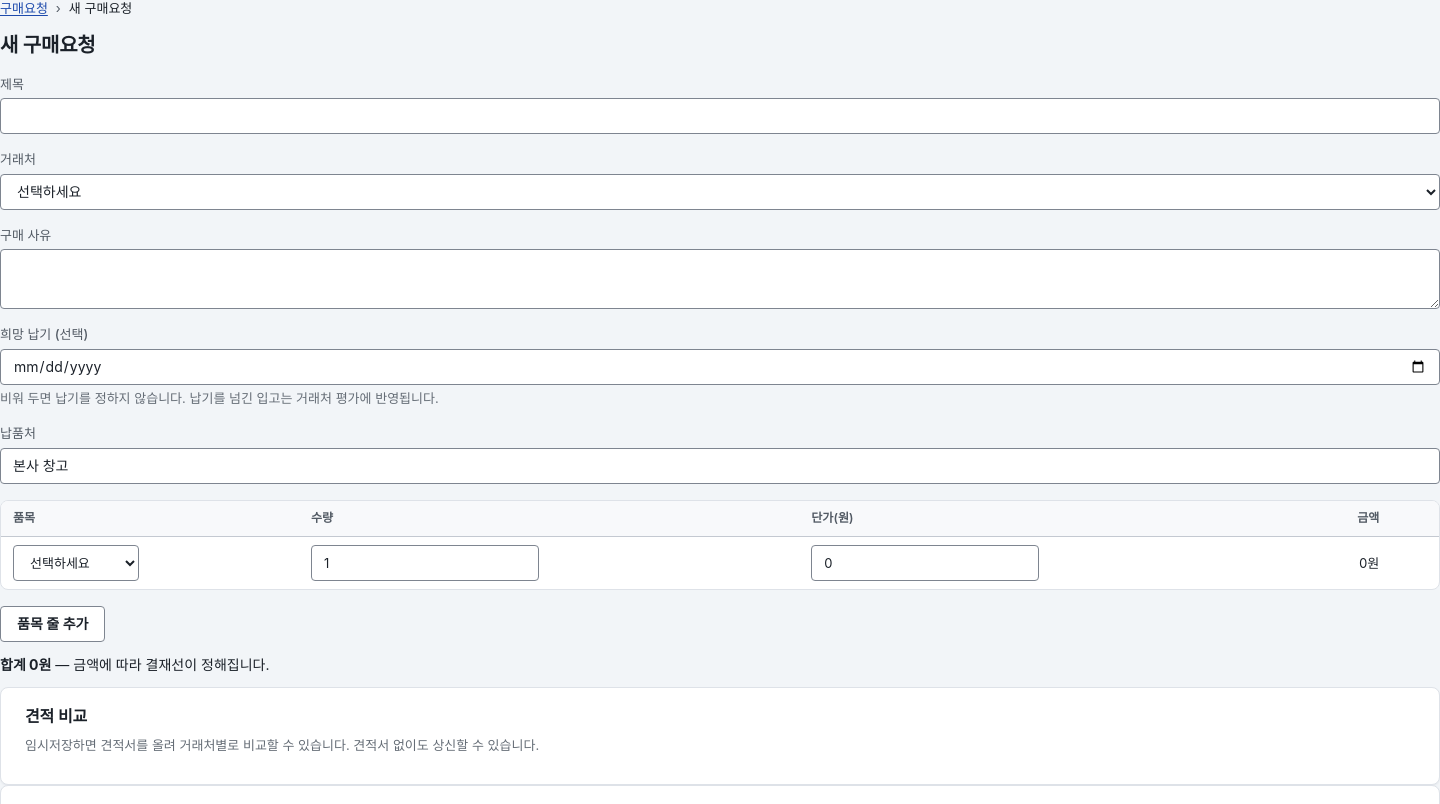
Test case: 관련 규정 묶음 › reason 으로 금액 구간과 품목 관련을 나눠 보인다
Select "복사용지 (P-1)" in the dropdown named "1번째 줄 품목" at x=76, y=563, box [13,545,139,581]
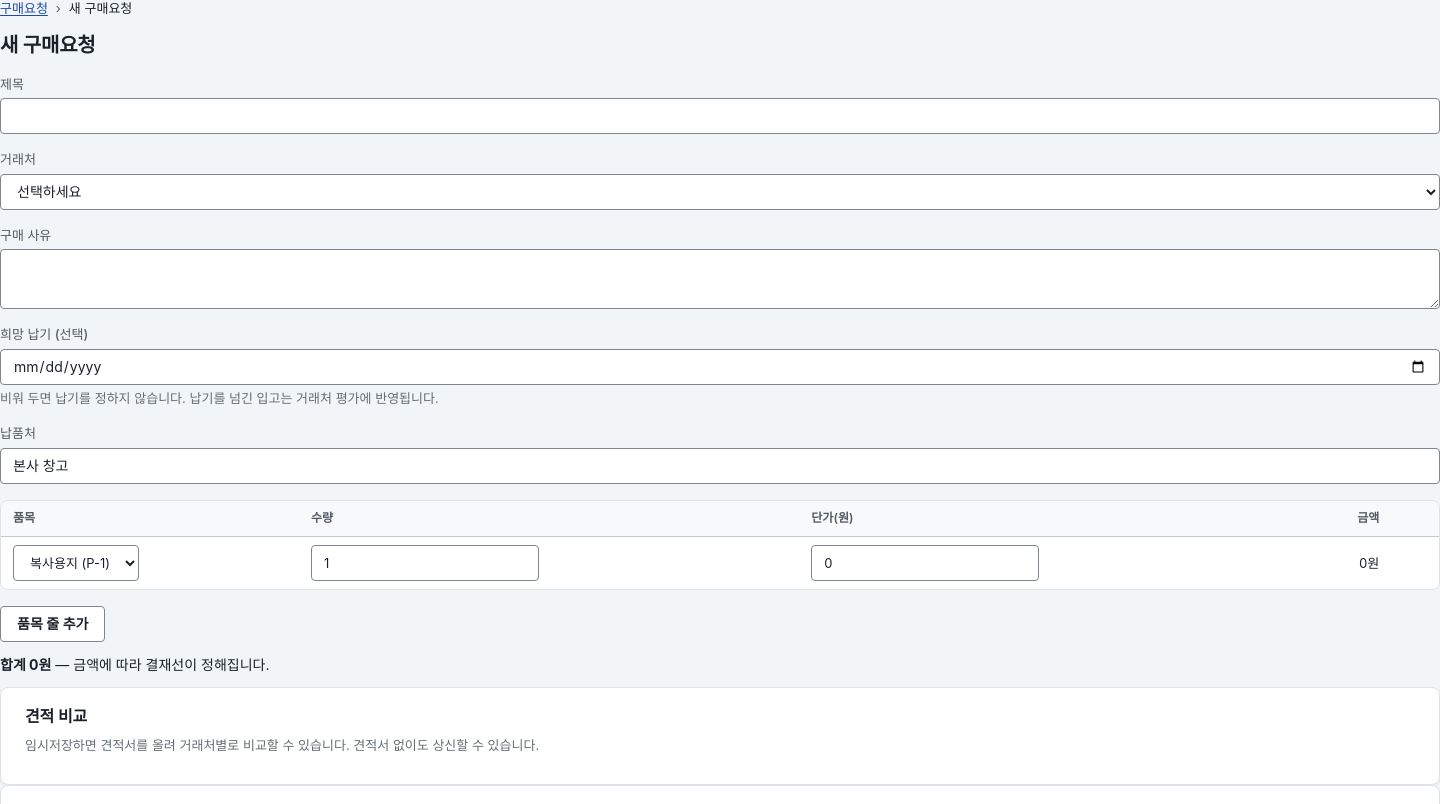
Replace the text in the field named "1번째 줄 단가" with "500000" at x=925, y=563, box [811,545,1039,581]
(page scrolled)
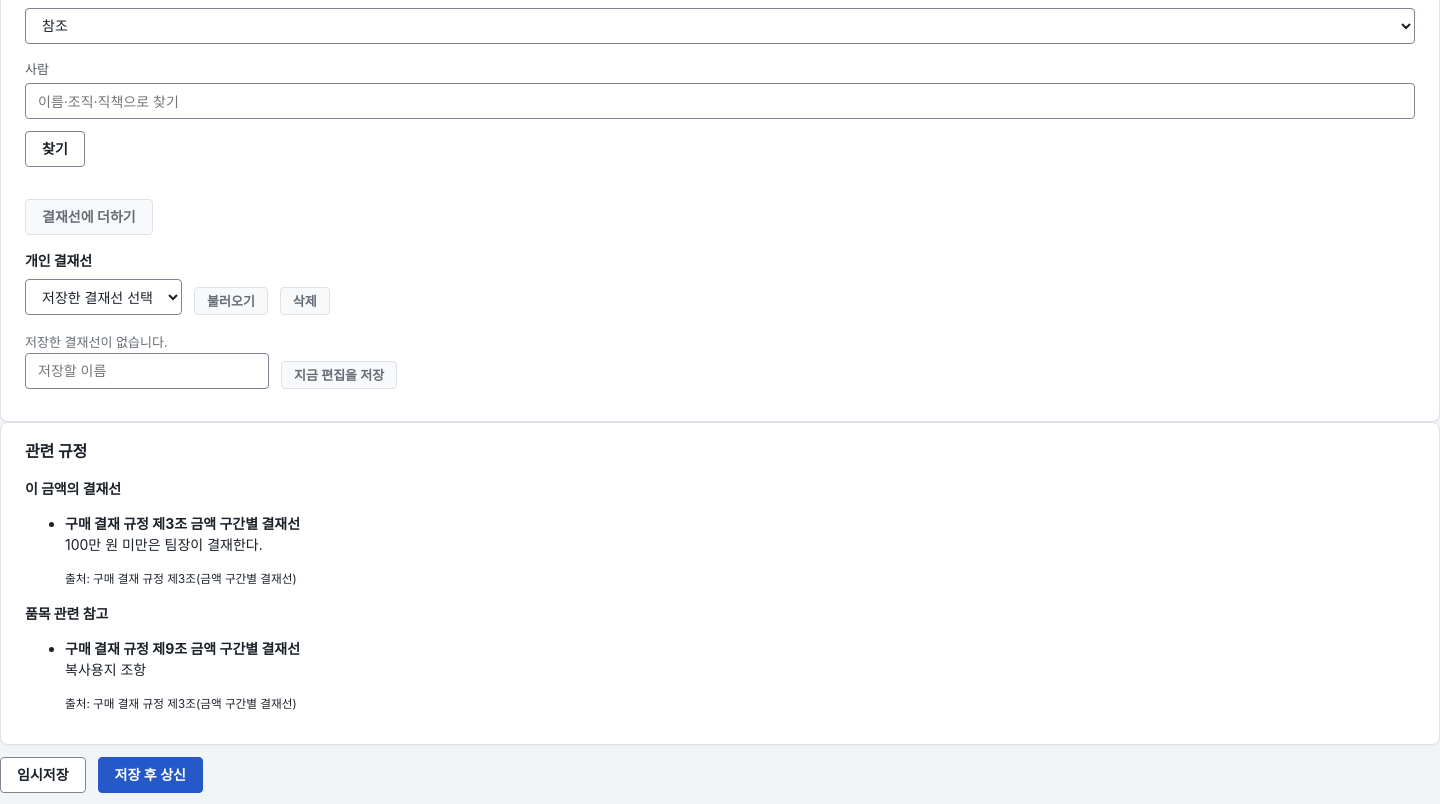
Expected: the heading "이 금액의 결재선" is shown, [25,480,121,496]
Expected: the heading "품목 관련 참고" is shown, [25,605,108,622]
